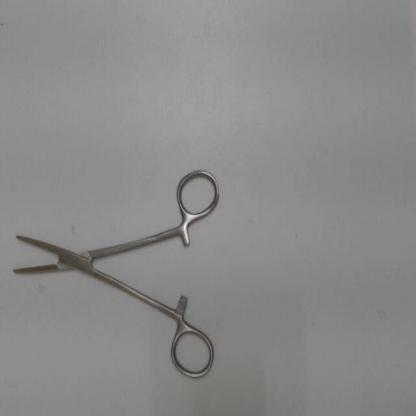Mayo Needle Holder: (3, 163, 226, 386)
